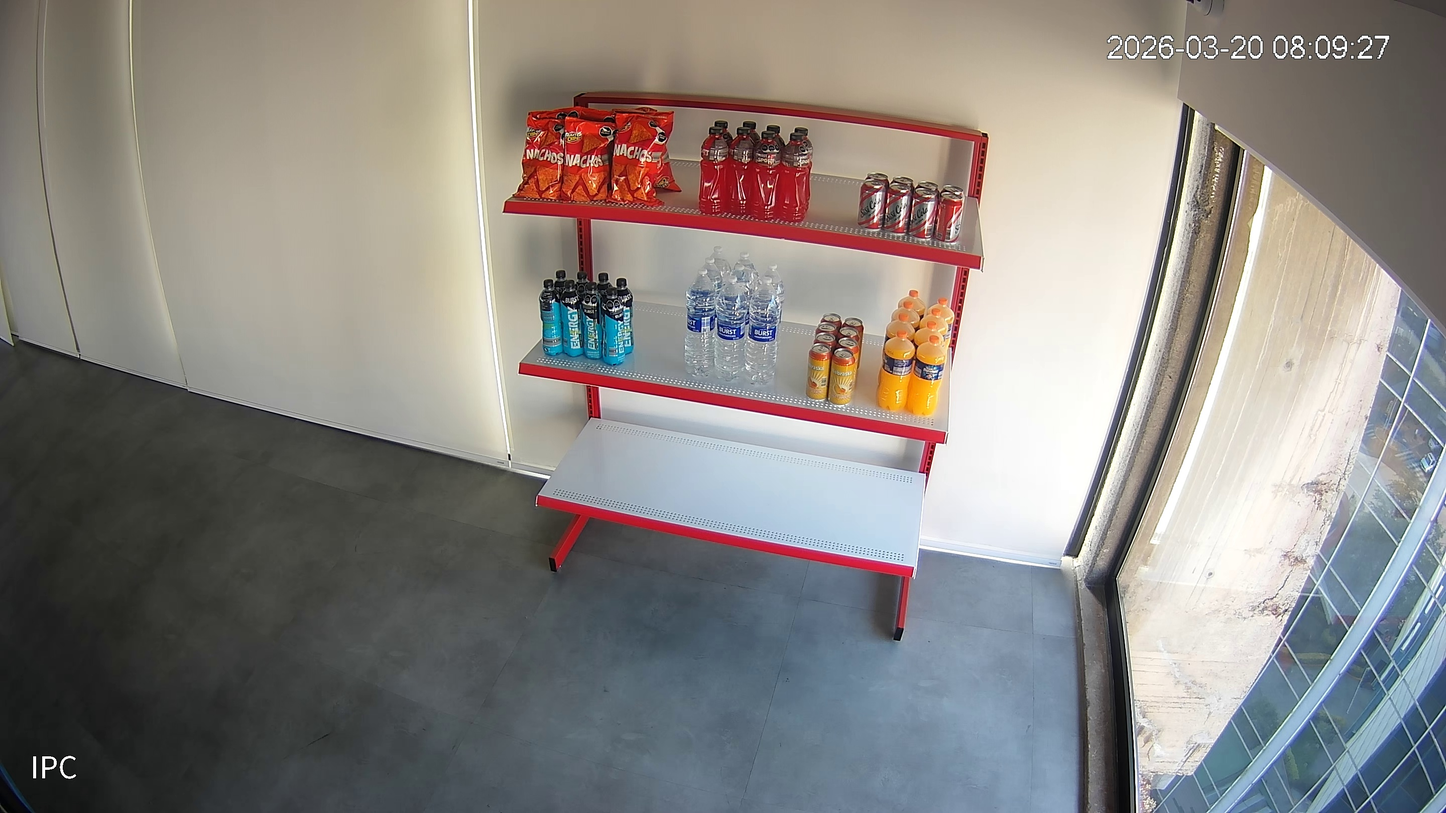agua_burst: (714, 276, 747, 381), (763, 262, 785, 351), (702, 257, 723, 301)
burst_energetica_roja: (776, 132, 810, 223), (726, 127, 755, 215), (767, 125, 785, 152)
burst_energy: (539, 278, 564, 356), (601, 287, 625, 366), (575, 271, 591, 300)
nachos_naturasol: (562, 116, 617, 203), (655, 143, 682, 191), (528, 106, 581, 120)
nebraska_mango: (806, 343, 832, 400), (842, 318, 864, 369), (815, 321, 838, 342)
sisi_cola: (858, 180, 887, 231), (890, 176, 915, 195), (939, 185, 965, 202)
sun_paradise_naranja: (878, 330, 917, 411), (927, 298, 954, 366), (897, 290, 926, 321)
